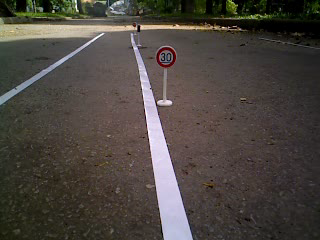limit 30: (153, 44, 179, 71)
